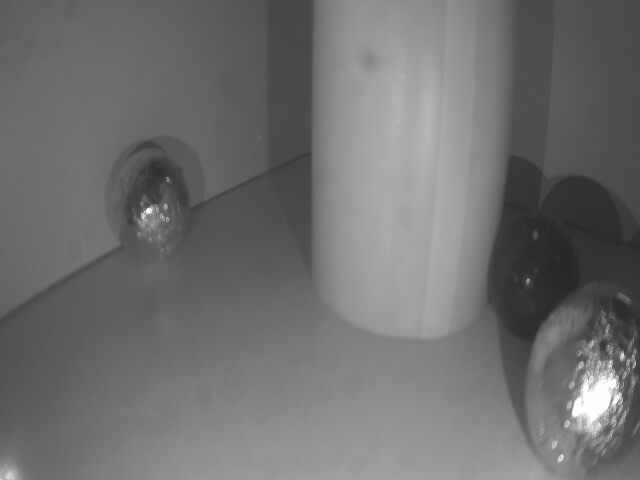Dead: (491, 212, 578, 335)
Live: (532, 275, 640, 480), (112, 149, 192, 263)
